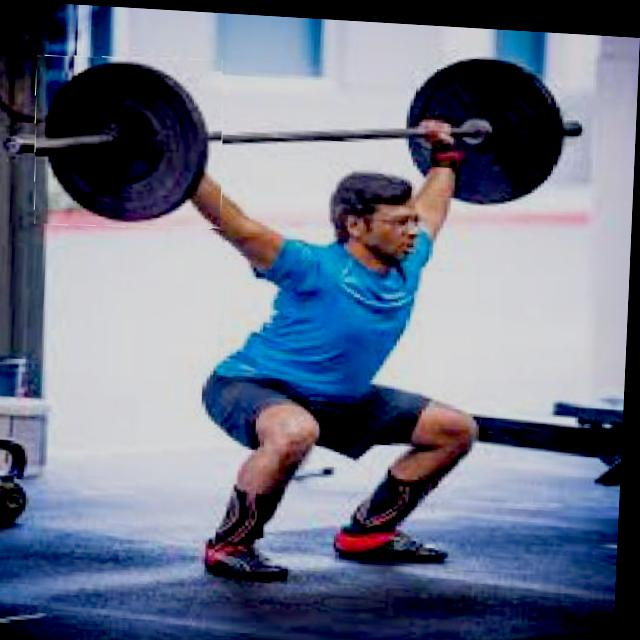barbell: (33, 51, 228, 231)
